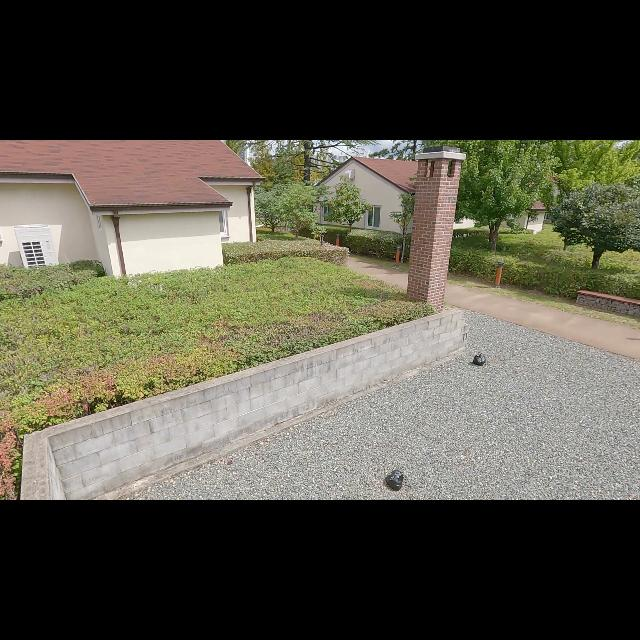trash: (382, 464, 406, 492), (472, 349, 486, 366)
